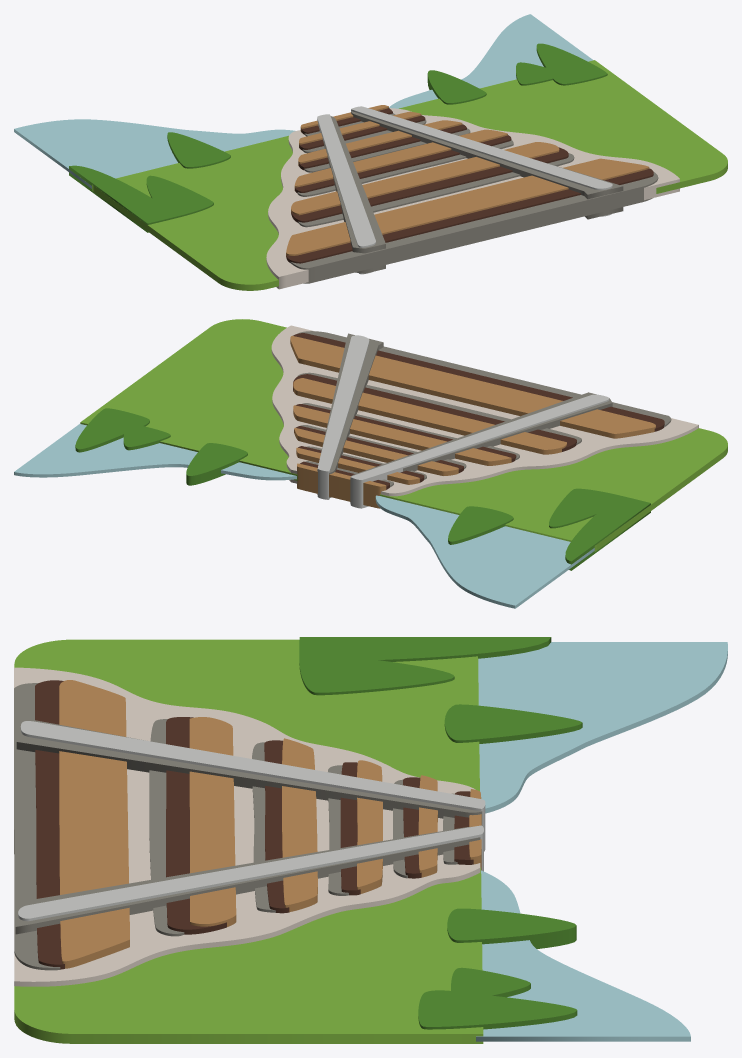
File: emoji_u1f6e4.glb
3 renders of one model, top to bottom at view 1: azimuth 30°, elevation 25°; view 2: azimuth 150°, elevation 25°; view 3: azimuth 270°, elevation 25°, orthographic. The views are drawn at different scales.
Parts seen in each view (by area): view 1: emoji_u1f6e4; view 2: emoji_u1f6e4; view 3: emoji_u1f6e4.
Boxes of the visible parts, x1,y1,x2,y2 form: emoji_u1f6e4: (14,14,727,290); emoji_u1f6e4: (14,319,727,608); emoji_u1f6e4: (14,637,727,1043).
Bounding box in the file's own units: 0.034 × 0.0018 × 0.026.
